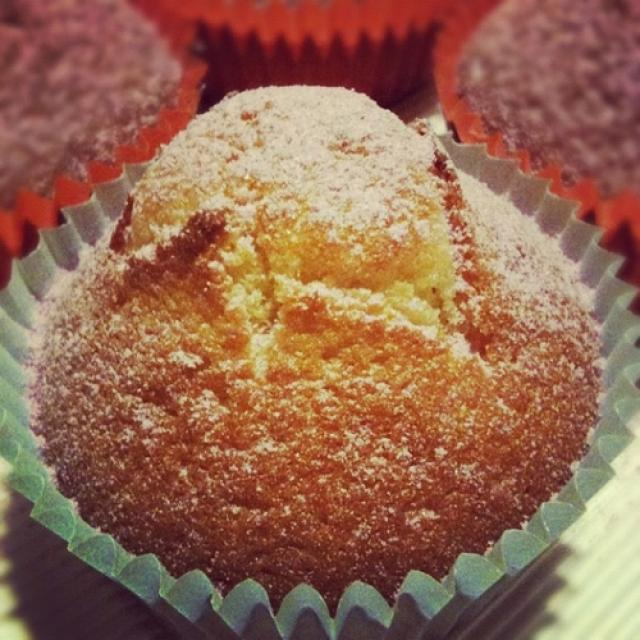炸货点心: (19, 45, 624, 626)
面包点心: (19, 45, 624, 626)
